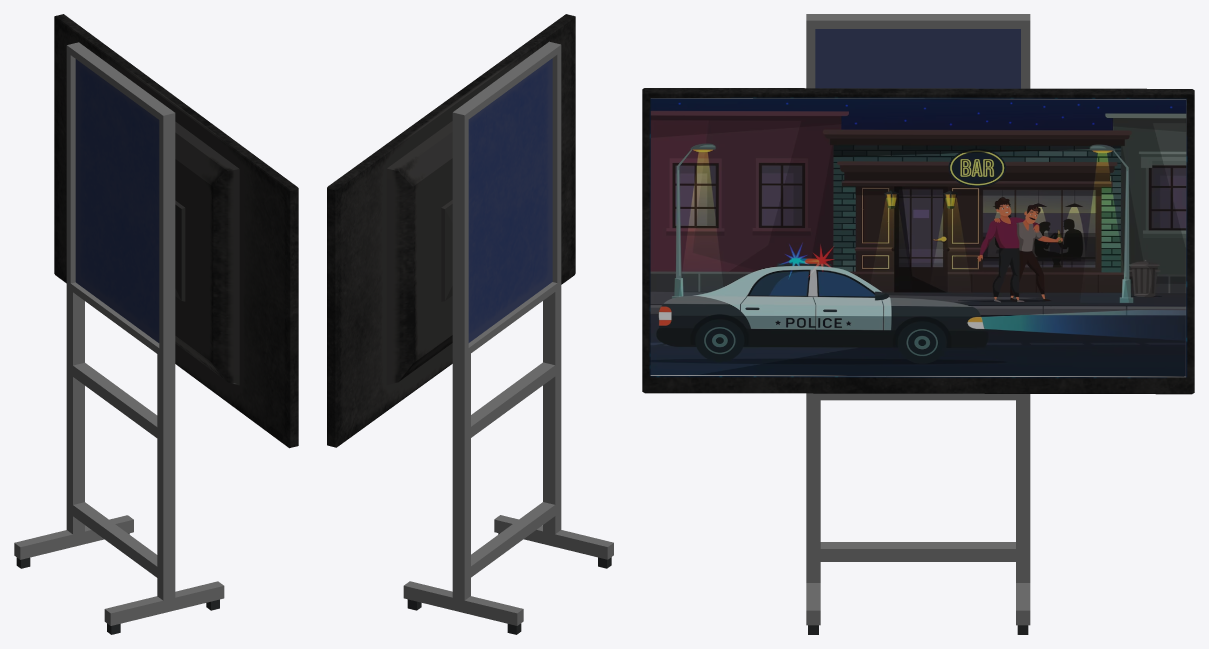
Rendered from TVScreenB.fbx.
The picture shows the model from 3 angles, left to right: view 1: azimuth 30°, elevation 25°; view 2: azimuth 150°, elevation 25°; view 3: azimuth 270°, elevation 25°; orthographic projection. The views are drawn at different scales.
Visible parts, largest first — view 1: TV, TV_Screen; view 2: TV, TV_Screen; view 3: TV_Screen, TV.
Boxes of the visible parts, x1,y1,x2,y2 form: TV: [14, 42, 224, 634]; TV_Screen: [54, 14, 298, 448]; TV: [403, 41, 613, 634]; TV_Screen: [327, 14, 575, 447]; TV_Screen: [642, 88, 1194, 394]; TV: [806, 14, 1030, 634].
Bounding box in the file's own units: 36.55 × 148 × 126.
